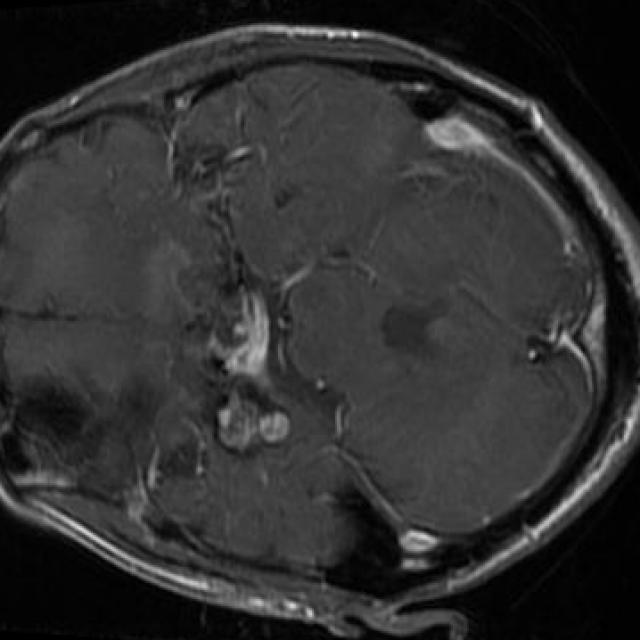glioma: (214, 383, 291, 455)
